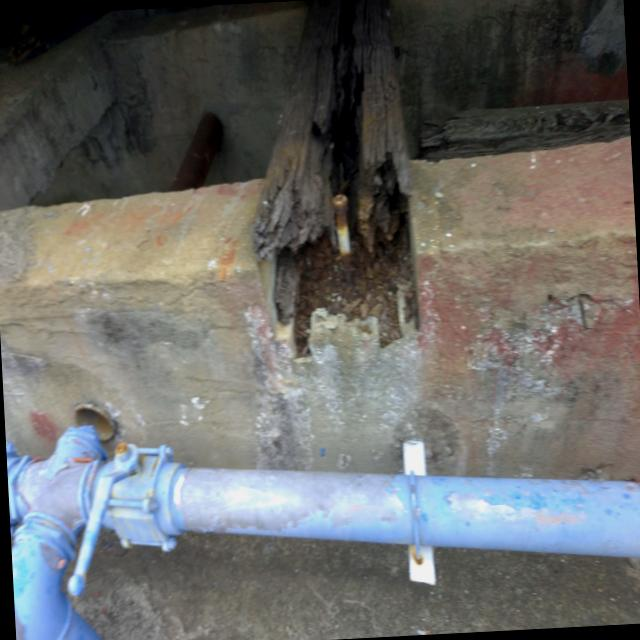gas: (7, 458, 640, 555), (12, 428, 106, 640)
